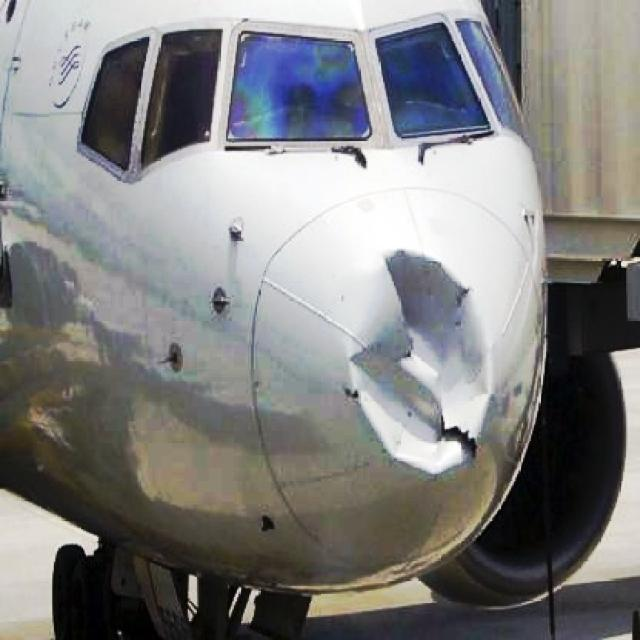dent: (339, 247, 498, 487)
